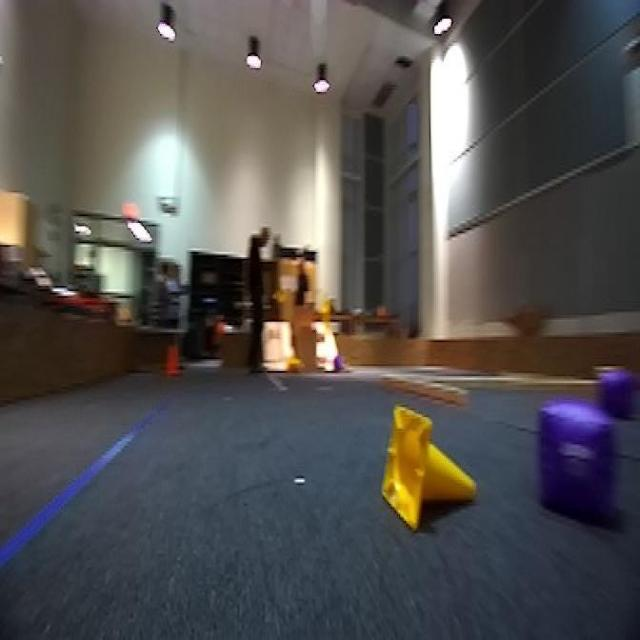frc_cone: (382, 407, 476, 529), (285, 352, 303, 377)
frc_cube: (534, 398, 616, 519), (594, 359, 634, 419), (330, 356, 346, 373)
